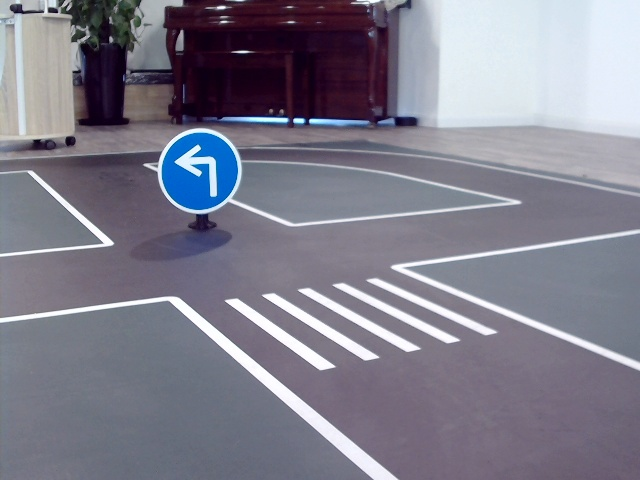turn_left: (175, 144, 220, 197)
